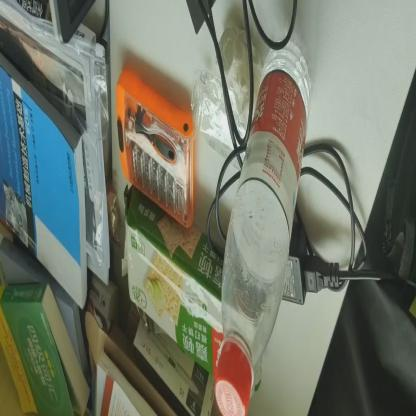Glass Bottle: (214, 37, 311, 416)
